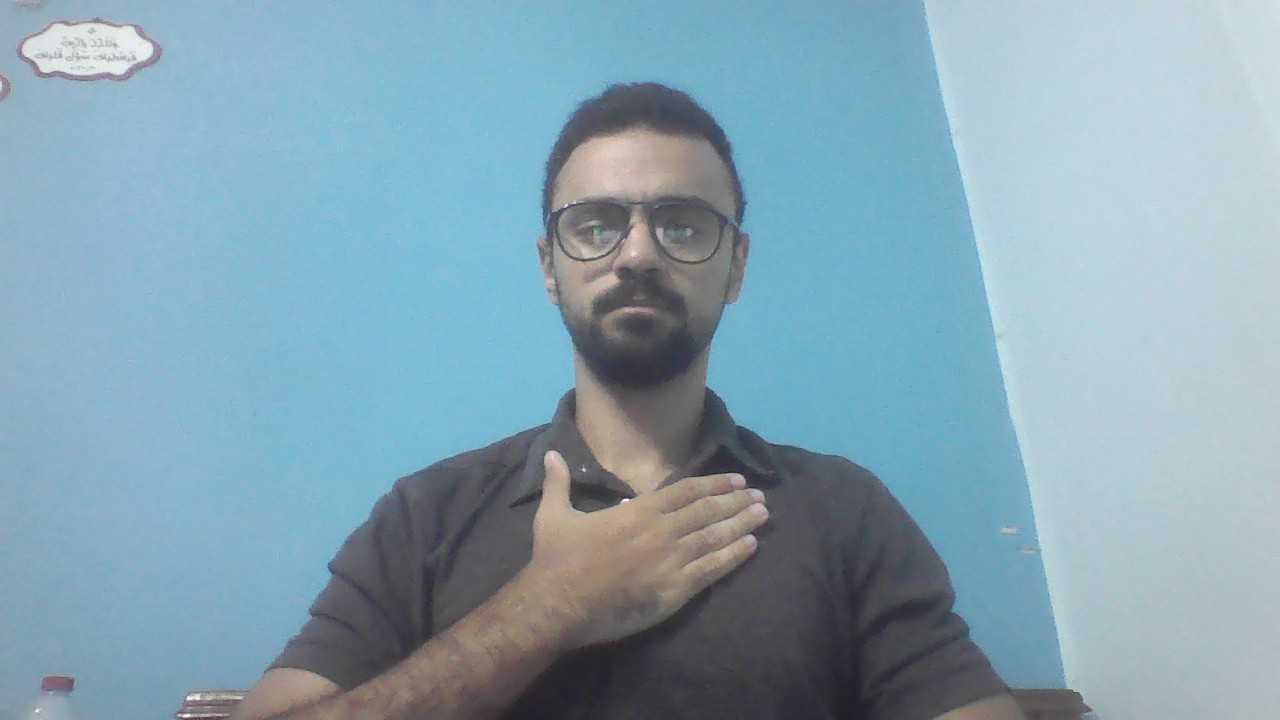please: (528, 449, 771, 644)
